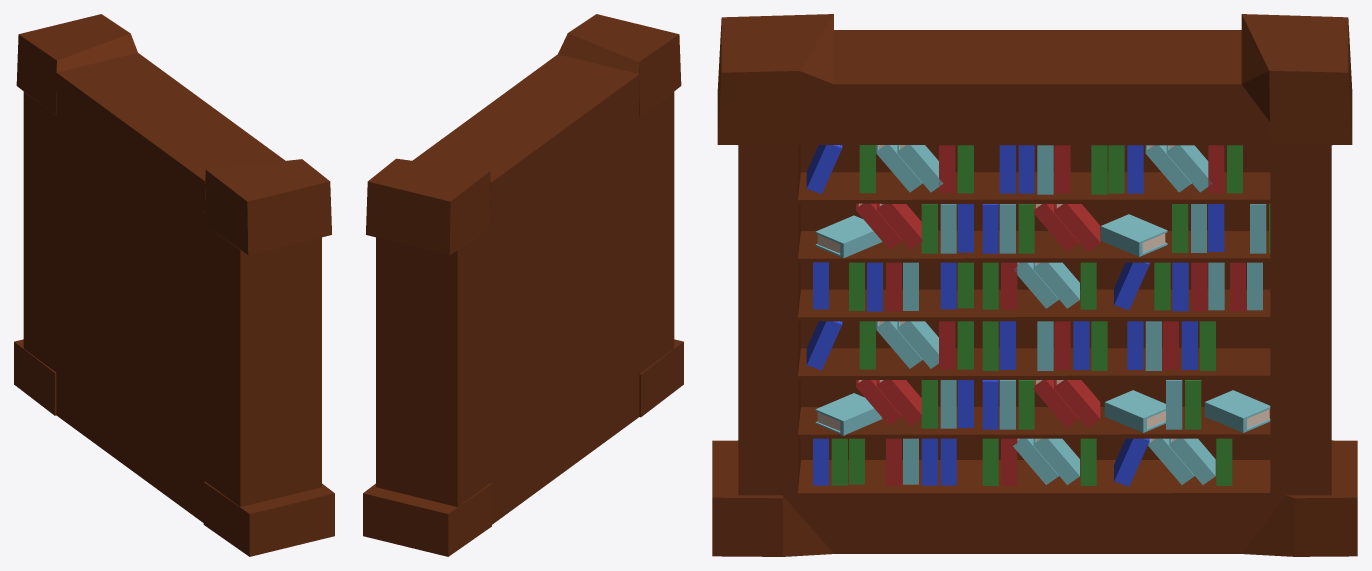
The model's file is BookcaseLargeFull.fbx.
The picture shows the model from 3 angles, left to right: view 1: azimuth 30°, elevation 25°; view 2: azimuth 150°, elevation 25°; view 3: azimuth 270°, elevation 25°; orthographic projection. The views are drawn at different scales.
Parts seen in each view (by area): view 1: Cube.073; view 2: Cube.073; view 3: Cube.073.
Part boxes in pixels (x1,y1,x2,y2): Cube.073: (14, 14, 334, 556); Cube.073: (363, 14, 683, 556); Cube.073: (712, 14, 1357, 556).
Size of the model in its own units: 155 by 598 by 720.
